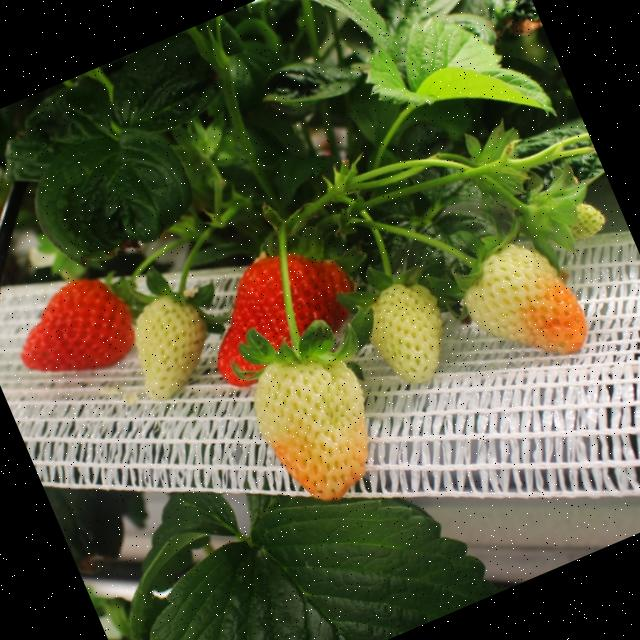Ripe Strawberry: (170, 194, 378, 395), (0, 236, 152, 399)
